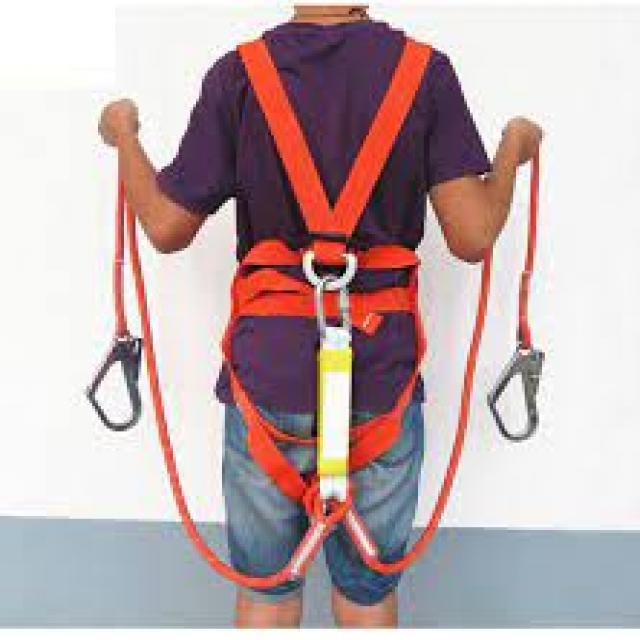belt: (85, 20, 552, 598)
